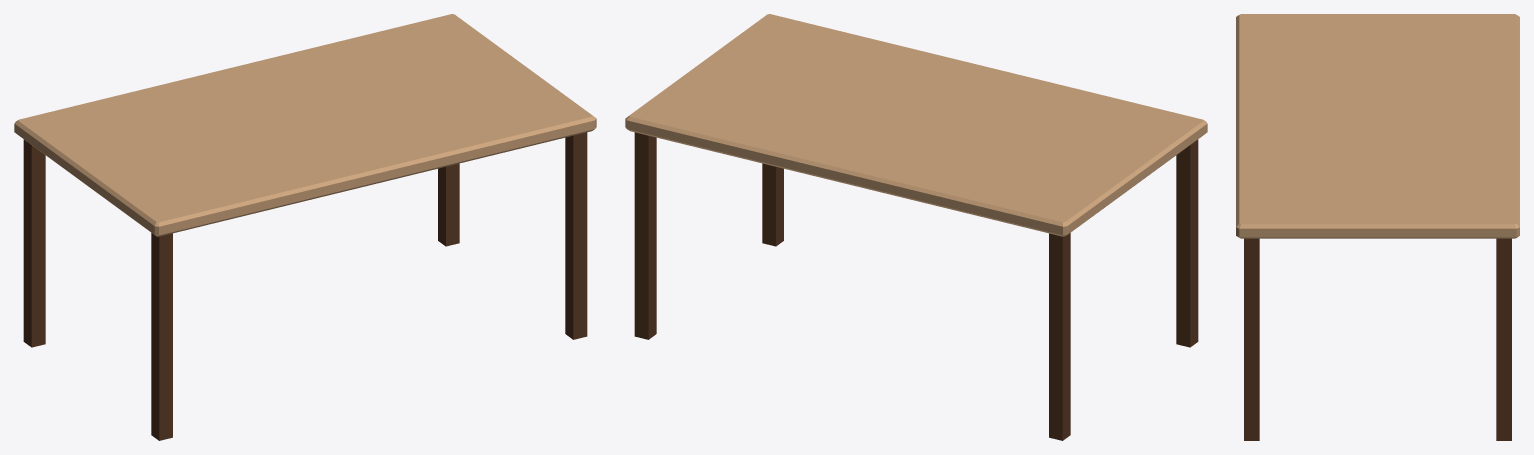
File: dining_table.glb
3 views of the same model, side by side, from view 1: azimuth 30°, elevation 25°; view 2: azimuth 150°, elevation 25°; view 3: azimuth 270°, elevation 25° (orthographic).
Parts seen in each view (by area): view 1: dining_table; view 2: dining_table; view 3: dining_table.
Boxes of the visible parts, x1,y1,x2,y2 form: dining_table: [14, 14, 596, 440]; dining_table: [625, 14, 1207, 440]; dining_table: [1236, 14, 1519, 440].
Bounding box in the file's own units: 1.6 × 0.765 × 0.9.
